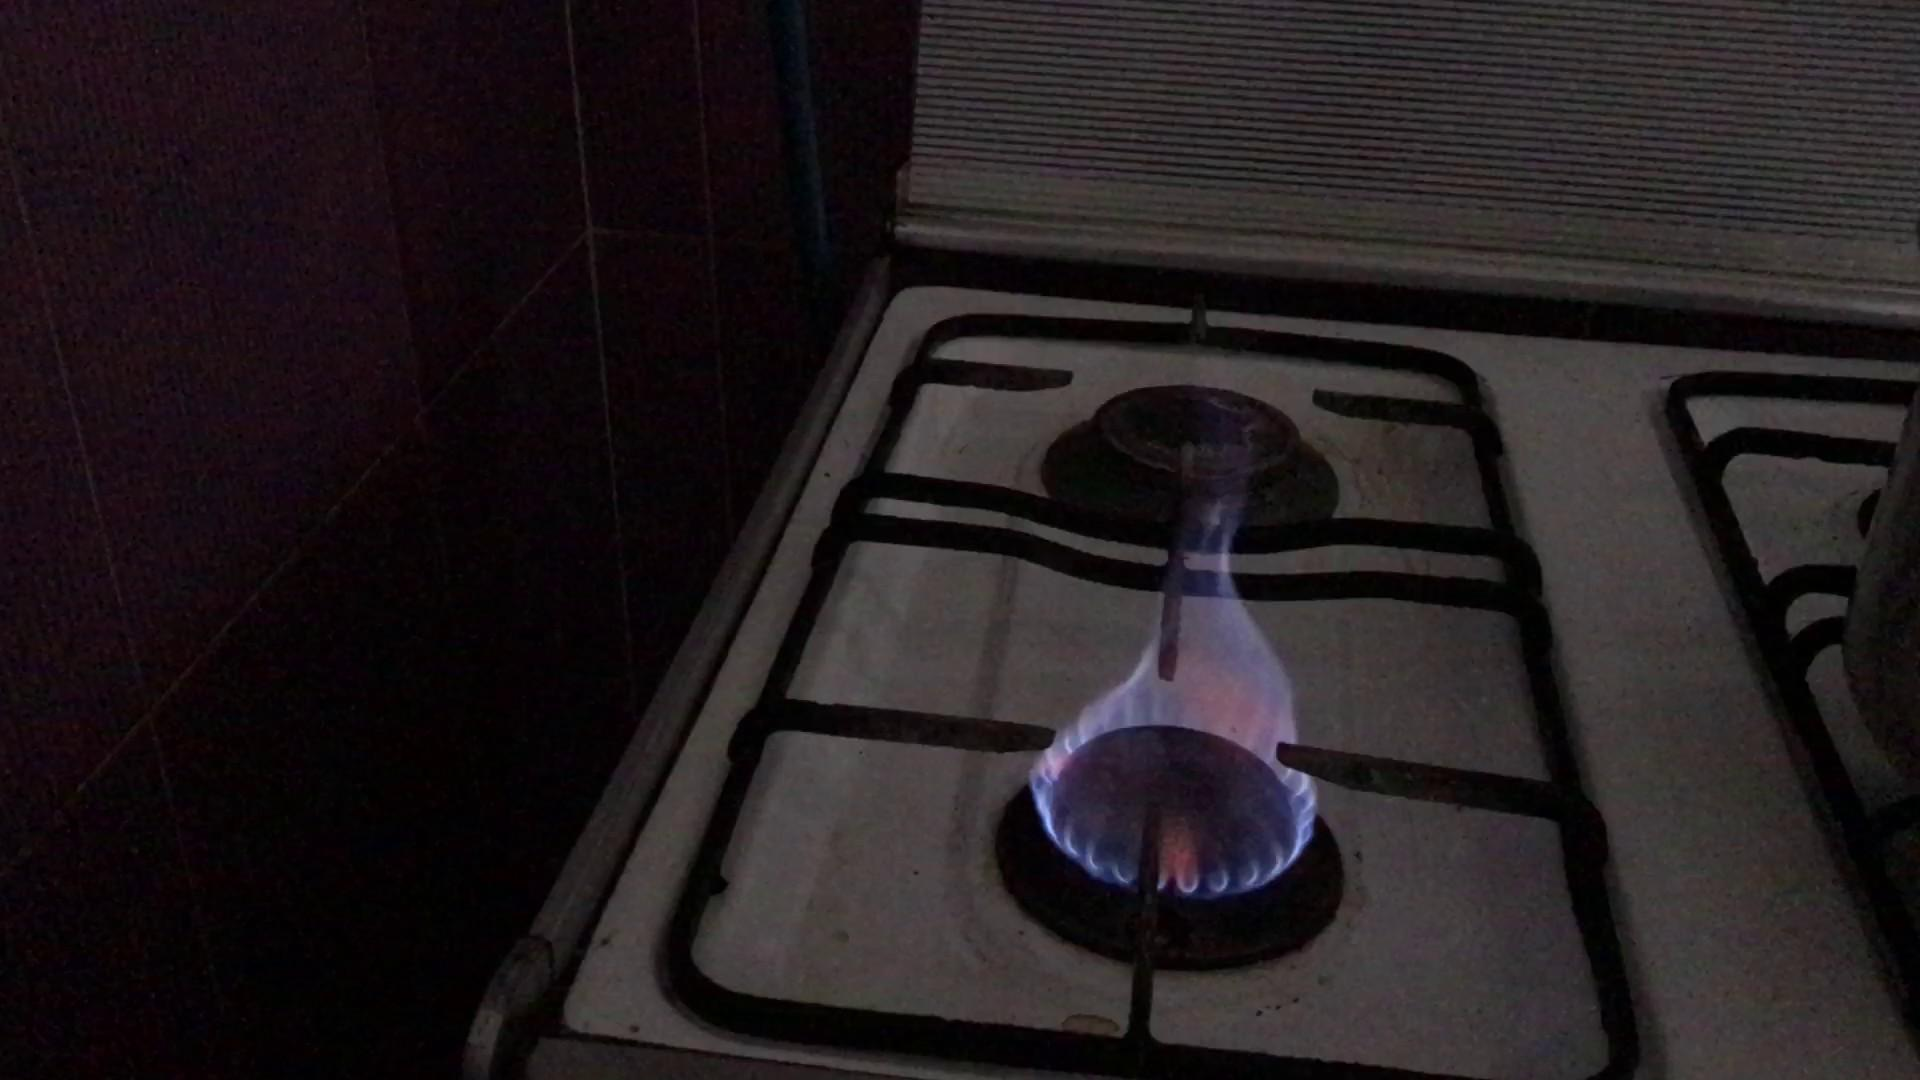fire: (1054, 473, 1305, 932)
